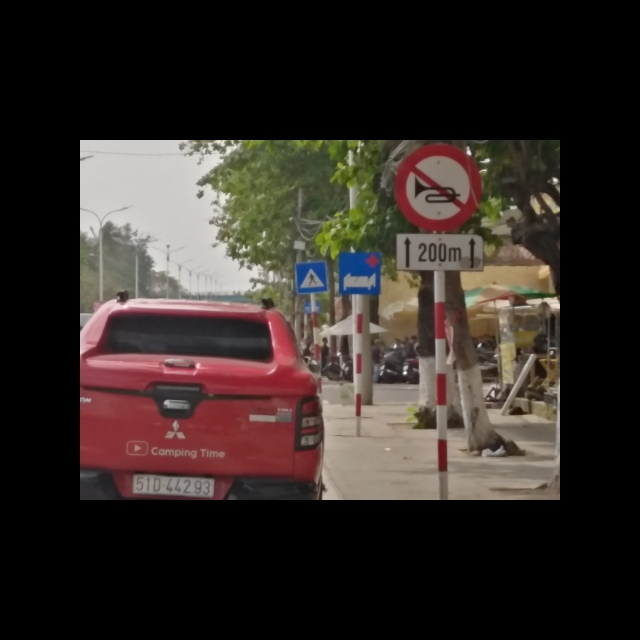Bệnh viện: (339, 252, 381, 296)
Cấm bấm còi: (395, 144, 481, 233)
Đường dành cho người đi bộ: (295, 262, 330, 294)
